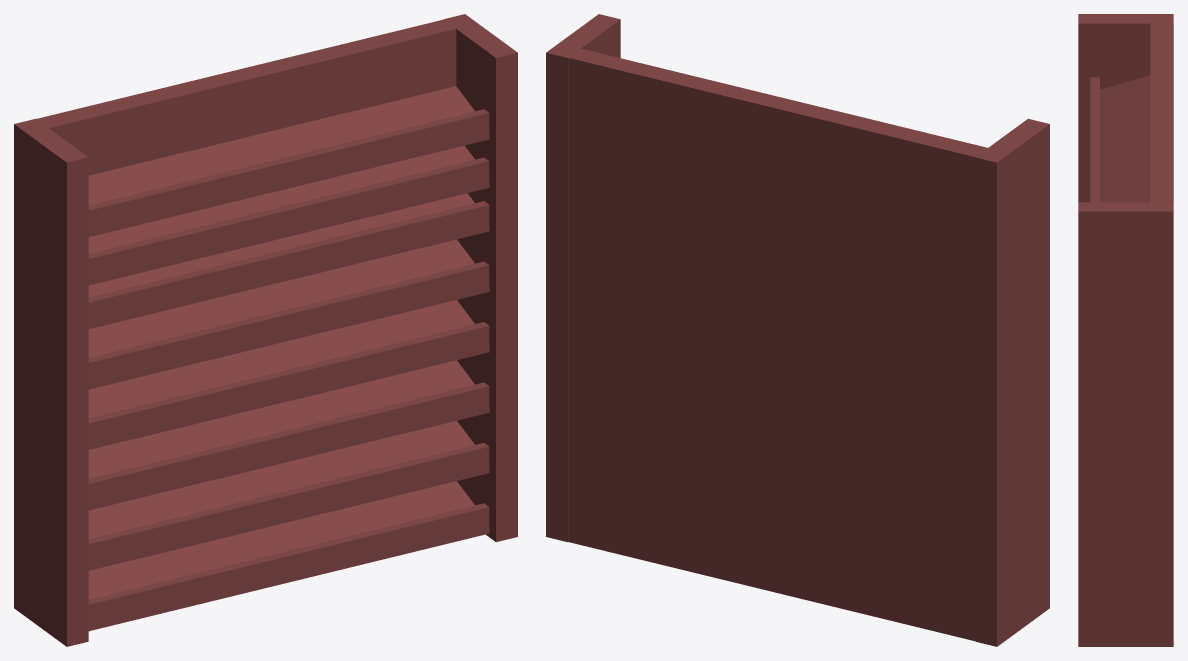
Rendered from rak sepatu.fbx.
3 views of the same model, side by side, from view 1: azimuth 30°, elevation 25°; view 2: azimuth 150°, elevation 25°; view 3: azimuth 270°, elevation 25° (orthographic). The views are drawn at different scales.
Parts seen in each view (by area): view 1: pCube1, pCube11, pCube2, pCube5, pCube6, pCube8, pCube9, pCube7, pCube10, pCube4, pCube3; view 2: pCube11, pCube1, pCube10; view 3: pCube10, pCube2, pCube1, pCube11.
Boxes of the visible parts, x1,y1,x2,y2 form: pCube1: (14,118,88,646); pCube11: (17,15,468,175); pCube2: (88,86,489,236); pCube5: (88,239,489,389); pCube6: (88,300,489,449); pCube8: (88,420,489,570); pCube9: (88,481,489,631); pCube7: (88,360,489,510); pCube10: (443,14,517,542); pCube4: (88,145,489,285); pCube3: (88,193,489,328); pCube11: (550,44,998,640); pCube1: (975,118,1049,646); pCube10: (546,14,620,542); pCube10: (1078,202,1173,646); pCube2: (1090,75,1150,202); pCube1: (1078,14,1173,202); pCube11: (1150,14,1172,209).
Size of the model in its own units: 13.4 by 13.75 by 2.72.
